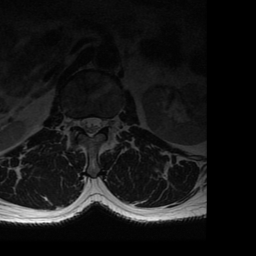CCS_normal: (87, 112, 94, 142)
LFS_normal: (102, 113, 109, 131)
LLS_normal: (94, 112, 102, 136)
RFS_normal: (72, 113, 80, 133)
RLS_normal: (80, 112, 87, 137)
